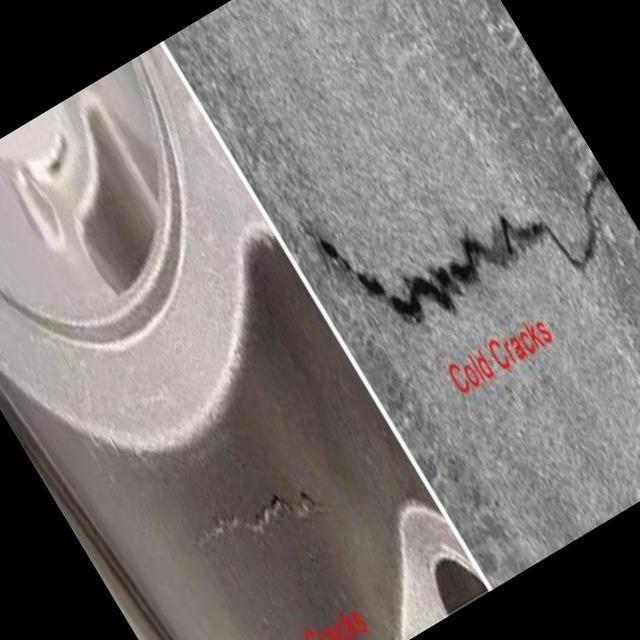defect: (304, 161, 611, 332), (189, 482, 334, 554)
